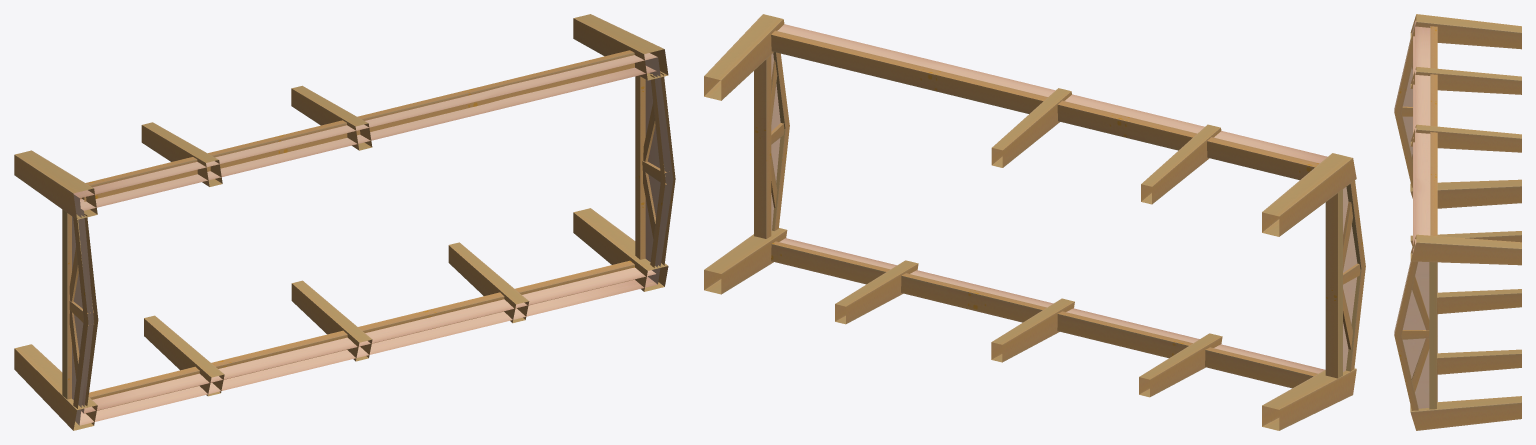
File: house_01_0_cf6c20c2__ZombiesII_depot_diffuse_03_573b45f4_c1f257.obj
The picture shows the model from 3 angles, left to right: view 1: azimuth 30°, elevation 25°; view 2: azimuth 150°, elevation 25°; view 3: azimuth 270°, elevation 25°; orthographic projection. The views are drawn at different scales.
Size of the model in its own units: 44.99 by 17.28 by 10.62.
1 material, 1 textured.
